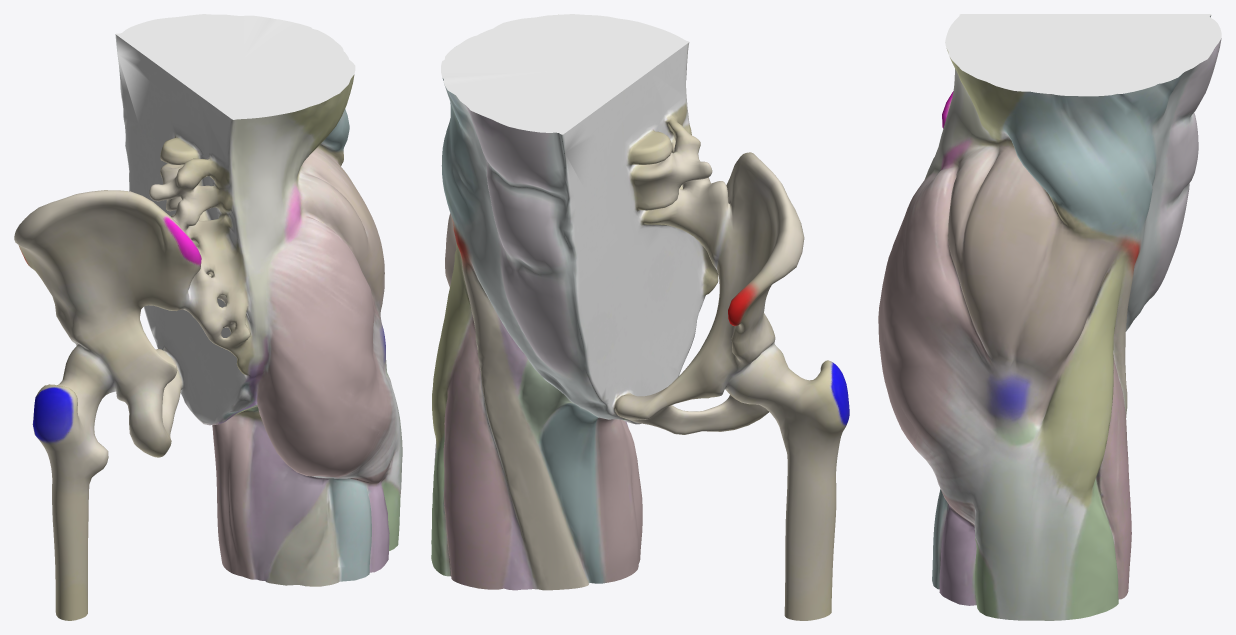
Rendered from 人物其它_20260324191737_opt.glb.
The picture shows the model from 3 angles, left to right: view 1: azimuth 30°, elevation 25°; view 2: azimuth 150°, elevation 25°; view 3: azimuth 270°, elevation 25°; orthographic projection. The views are drawn at different scales.
Visible parts, largest first — view 1: HalvesBones_Shell, HalvesBones_Cap; view 2: HalvesBones_Shell, HalvesBones_Cap; view 3: HalvesBones_Shell, HalvesBones_Cap.
Part boxes in pixels (x1,y1,x2,y2): HalvesBones_Shell: (14, 34, 402, 620); HalvesBones_Cap: (116, 14, 355, 119); HalvesBones_Shell: (431, 42, 849, 620); HalvesBones_Cap: (441, 14, 688, 134); HalvesBones_Shell: (878, 15, 1221, 620); HalvesBones_Cap: (945, 14, 1221, 96).
Size of the model in its own units: 0.341 by 0.4309 by 0.2629.
2 materials, 1 textured.
